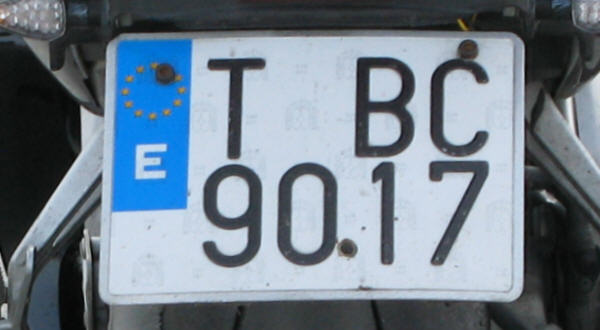license_plate: (107, 32, 520, 294)
